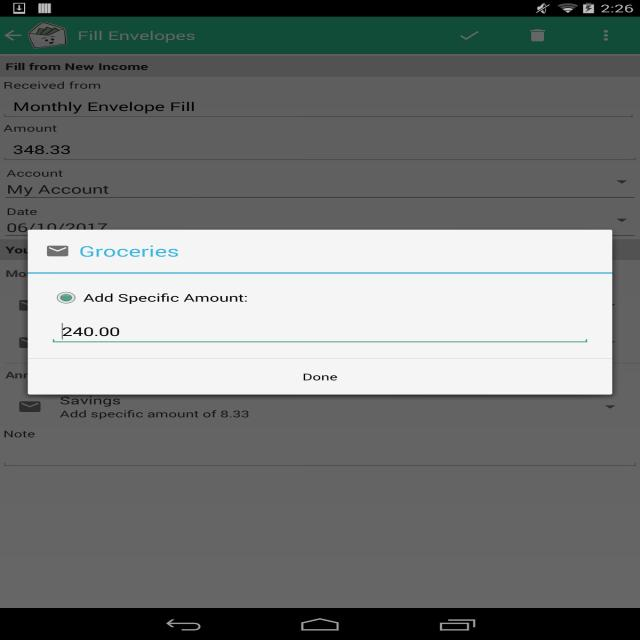button: (29, 358, 612, 394), (520, 22, 555, 51), (458, 24, 487, 51), (593, 22, 621, 48), (0, 26, 28, 50), (55, 288, 79, 306)
field: (0, 76, 639, 115), (1, 427, 640, 466), (0, 120, 636, 158), (4, 166, 640, 198), (53, 313, 588, 342)
heading: (4, 57, 147, 75), (75, 27, 194, 46), (77, 241, 183, 260)
image: (32, 24, 68, 48), (44, 243, 73, 260)
label: (84, 291, 254, 304), (2, 78, 99, 93), (0, 120, 61, 135), (3, 166, 68, 179), (1, 429, 38, 442), (7, 206, 41, 218)
text: (8, 96, 199, 116), (6, 183, 112, 197), (58, 319, 122, 341), (12, 141, 73, 157)
